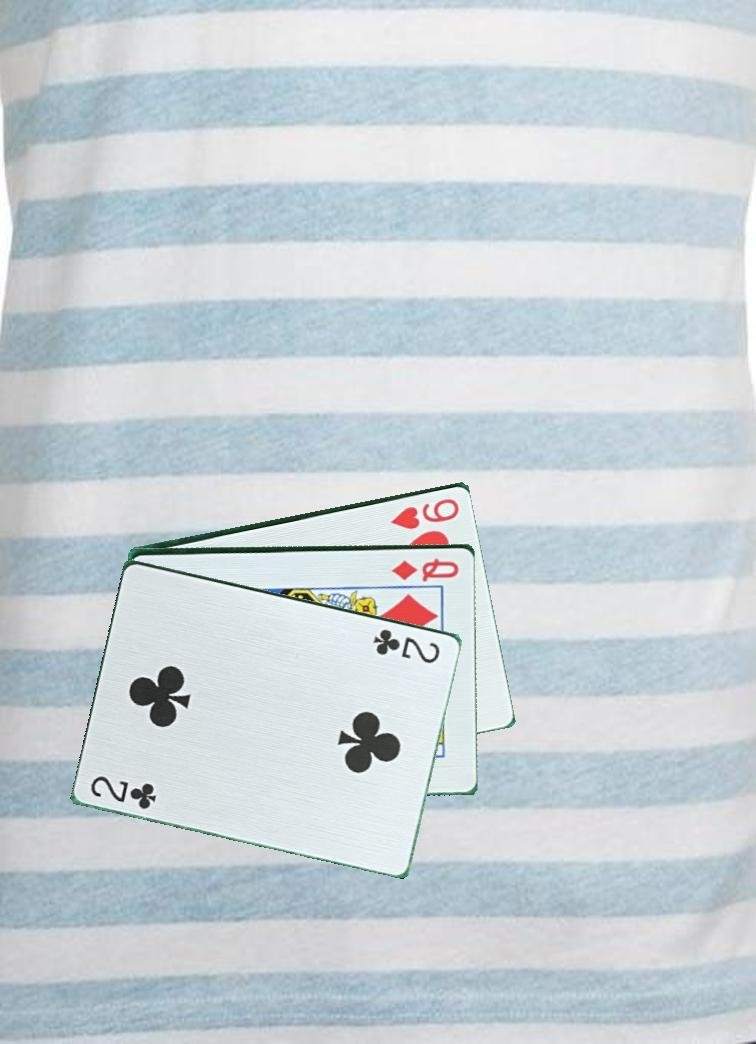2c: (370, 625, 444, 666), (87, 771, 160, 812)
9h: (388, 494, 463, 531)
qd: (388, 554, 462, 582)
